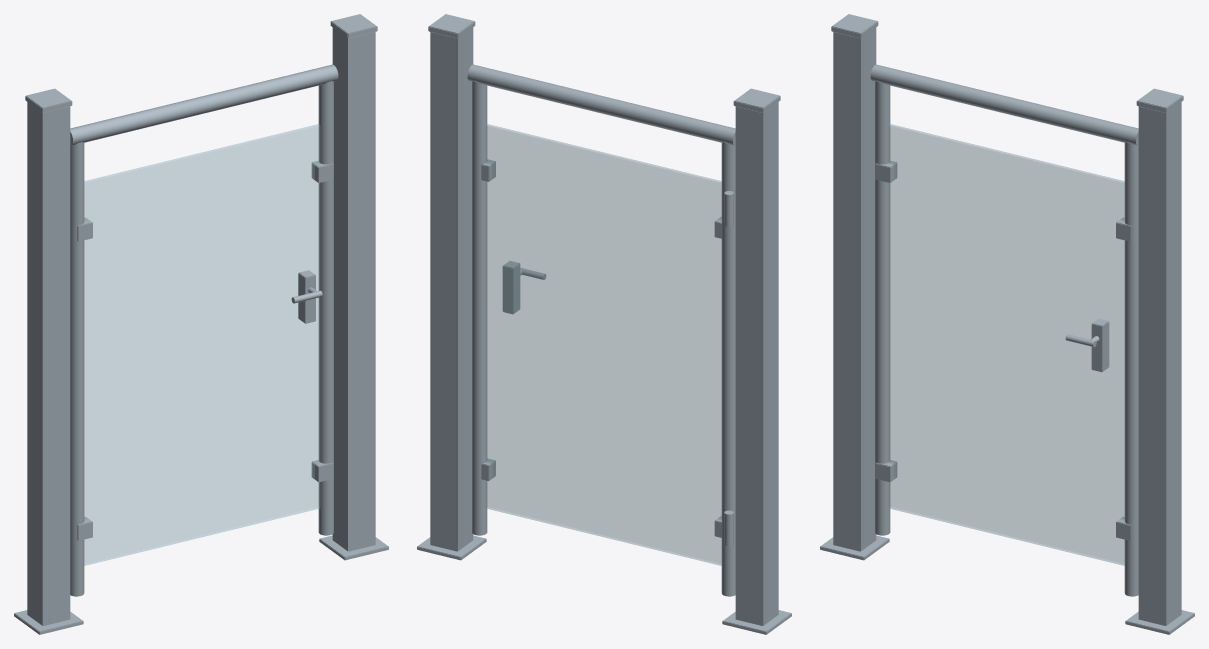
File: 15-pesacka.glb
3 views of the same model, side by side, from view 1: azimuth 30°, elevation 25°; view 2: azimuth 150°, elevation 25°; view 3: azimuth 330°, elevation 25° (orthographic).
Visible parts, largest first — view 1: Ispuna_staklo, Stub_levi.056, Stub_desni.056, Ram_inox_uspravni.021, Ram_inox_uspravni.020, Ram_rukohvat.010, Okov_brava.056, Kapa_stuba.112, Kapa_stuba.113, Stopa_stuba.113, Stopa_stuba.112; view 2: Ispuna_staklo, Stub_levi.056, Stub_desni.056, Ram_inox_uspravni.021, Ram_inox_uspravni.020, Ram_rukohvat.010, Okov_brava.056, Kapa_stuba.112, Kapa_stuba.113, Stopa_stuba.113, Stopa_stuba.112; view 3: Ispuna_staklo, Stub_desni.056, Stub_levi.056, Ram_inox_uspravni.020, Ram_inox_uspravni.021, Ram_rukohvat.010, Okov_brava.056, Kapa_stuba.113, Kapa_stuba.112, Stopa_stuba.112, Stopa_stuba.113.
Part boxes in pixels (x1,y1,x2,y2): Ispuna_staklo: (84,124,320,565); Stub_levi.056: (27,102,70,625); Stub_desni.056: (332,27,375,551); Ram_inox_uspravni.021: (318,81,333,535); Ram_inox_uspravni.020: (70,142,84,596); Ram_rukohvat.010: (70,64,338,145); Okov_brava.056: (298,270,315,323); Kapa_stuba.112: (25,88,72,112); Kapa_stuba.113: (330,14,377,38); Stopa_stuba.113: (319,535,388,560); Stopa_stuba.112: (14,610,83,634); Ispuna_staklo: (485,124,721,565); Stub_levi.056: (735,102,778,625); Stub_desni.056: (430,27,473,551); Ram_inox_uspravni.021: (472,81,487,535); Ram_inox_uspravni.020: (721,142,735,596); Ram_rukohvat.010: (467,64,735,145); Okov_brava.056: (502,261,520,314); Kapa_stuba.112: (733,88,780,112); Kapa_stuba.113: (428,14,475,38); Stopa_stuba.113: (417,535,486,560); Stopa_stuba.112: (722,610,791,634); Ispuna_staklo: (888,124,1124,565); Stub_desni.056: (1138,102,1181,625); Stub_levi.056: (833,27,876,551); Ram_inox_uspravni.020: (875,81,890,535); Ram_inox_uspravni.021: (1124,142,1138,596); Ram_rukohvat.010: (870,64,1138,145); Okov_brava.056: (1091,318,1109,372); Kapa_stuba.113: (1136,88,1183,112); Kapa_stuba.112: (831,14,878,38); Stopa_stuba.112: (820,535,889,560); Stopa_stuba.113: (1125,610,1194,634).
Bounding box in the file's own units: 1.26 × 1.8 × 0.19.
